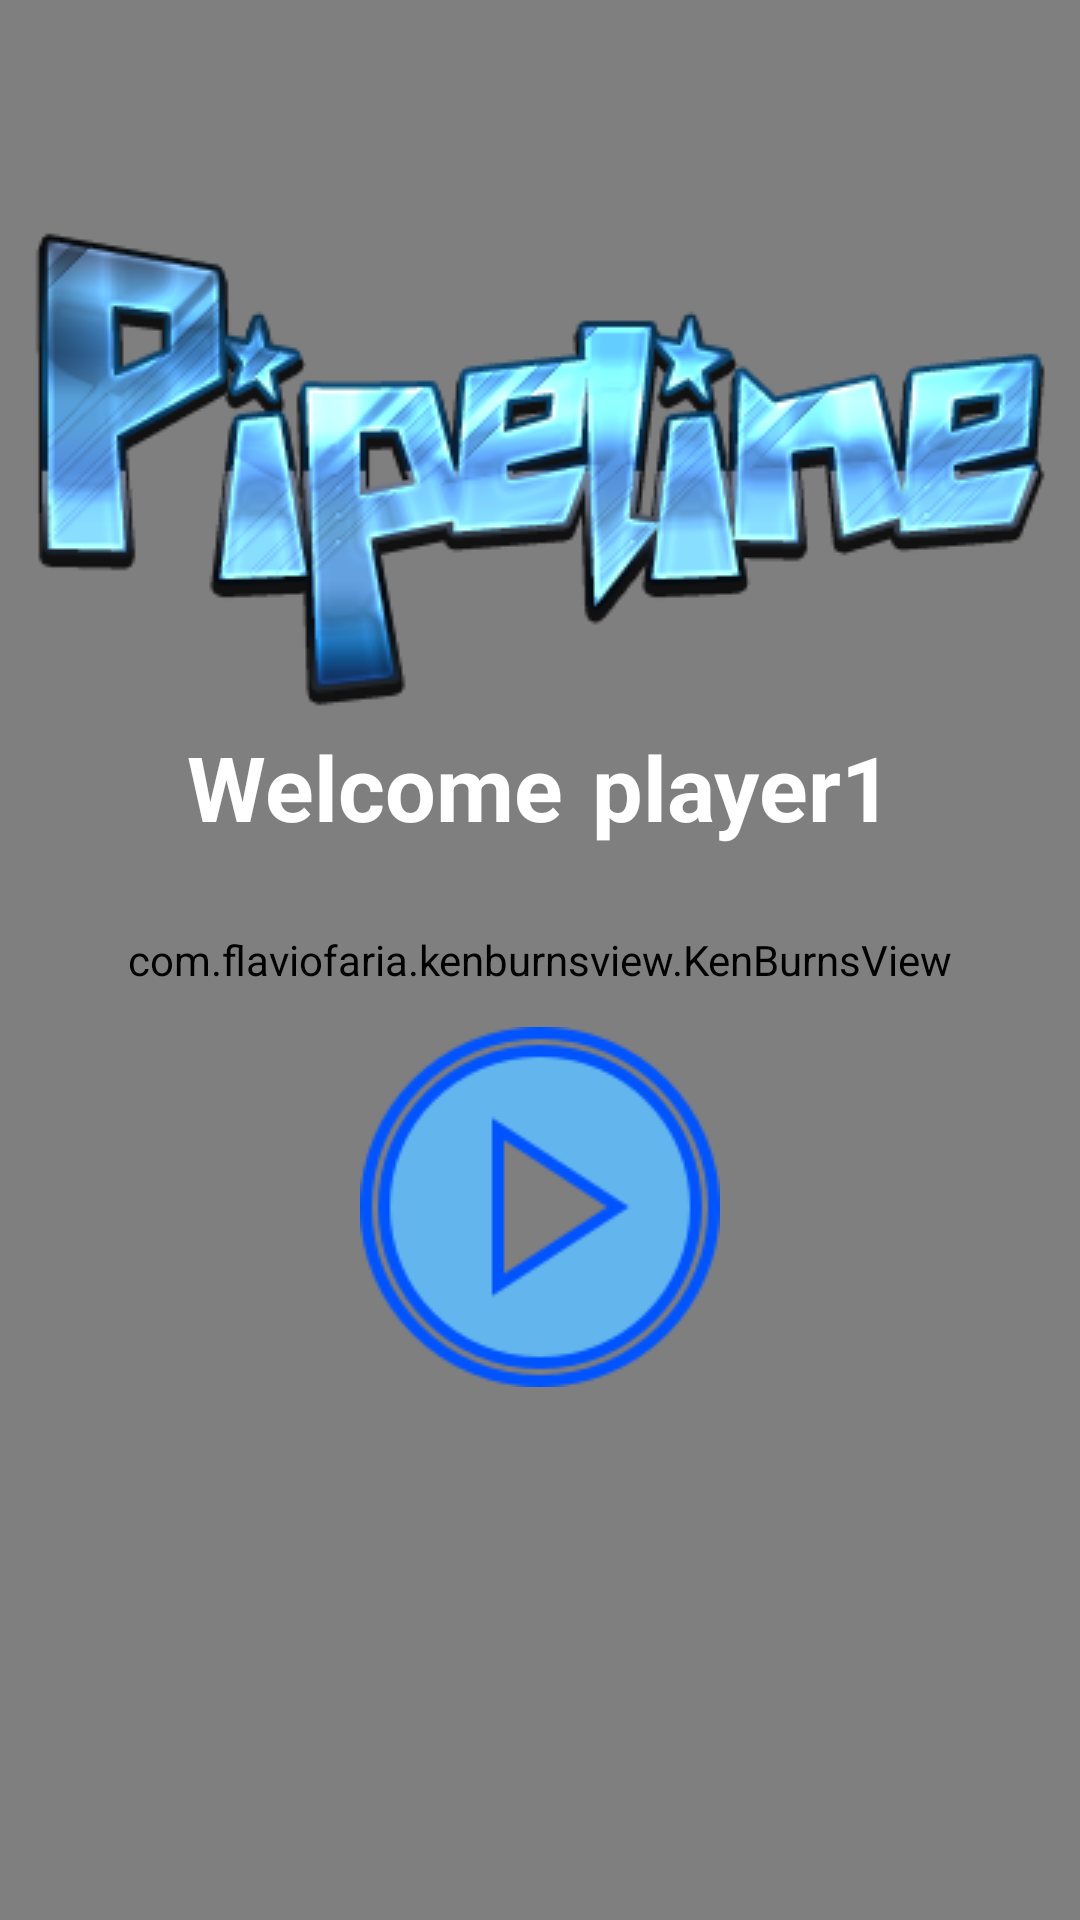

Where to tap for icons on this 1080×1920 app screen, as [x,y]:
play: [540,1207]
